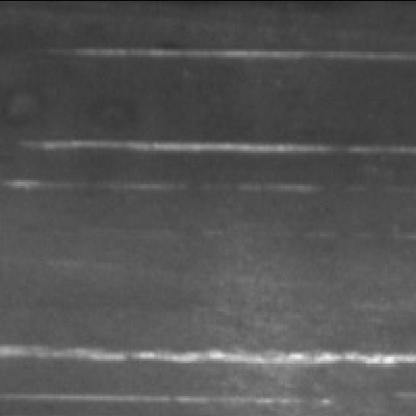scratches: (0, 341, 412, 377), (29, 130, 414, 166), (46, 43, 414, 68)
